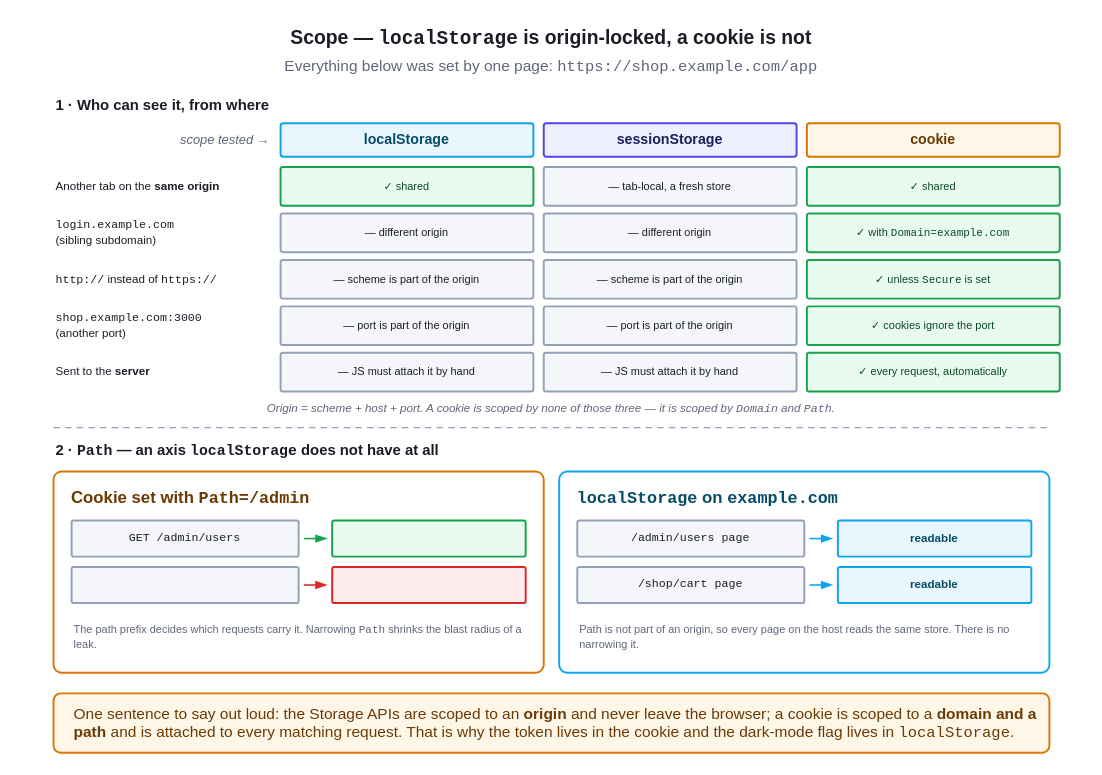
Image size: 1102x775. Some labels were removed from this diagram. Here are the shapes that lost their labels. From the top down, the centre of each, then its label:
the point at 428,538: sent
the point at 184,584: GET /shop/cart
the point at 428,584: not sent
